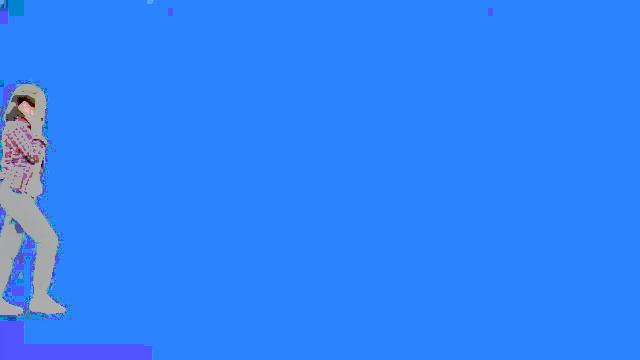berjalan: (0, 78, 66, 318)
